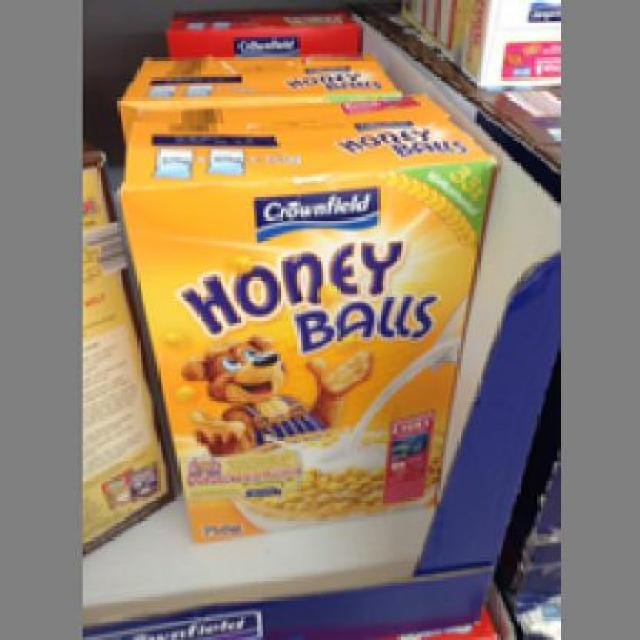Cereal: (109, 97, 492, 543)
